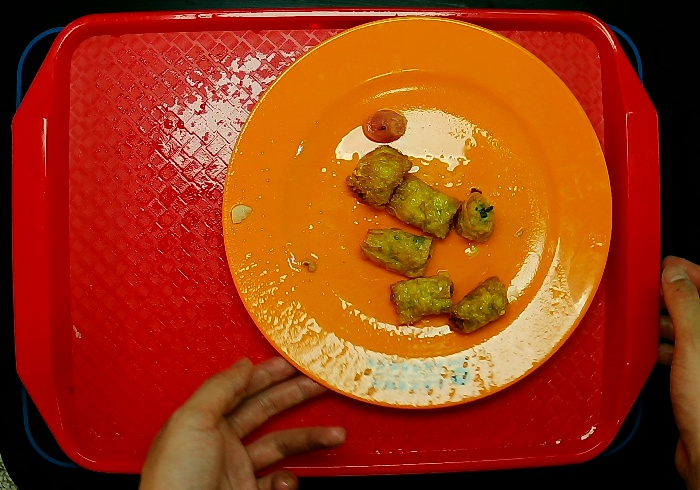YKMZ-Ju_Se_Mian_Pan: (220, 14, 615, 411)
